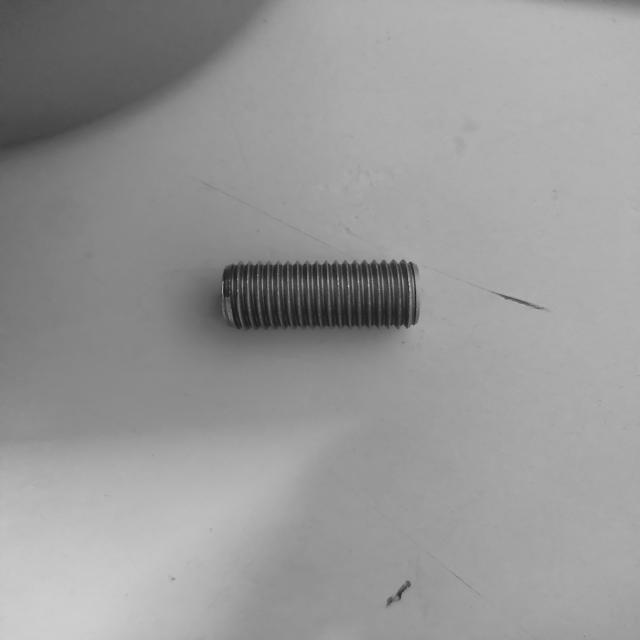Normal: (220, 258, 422, 332)
